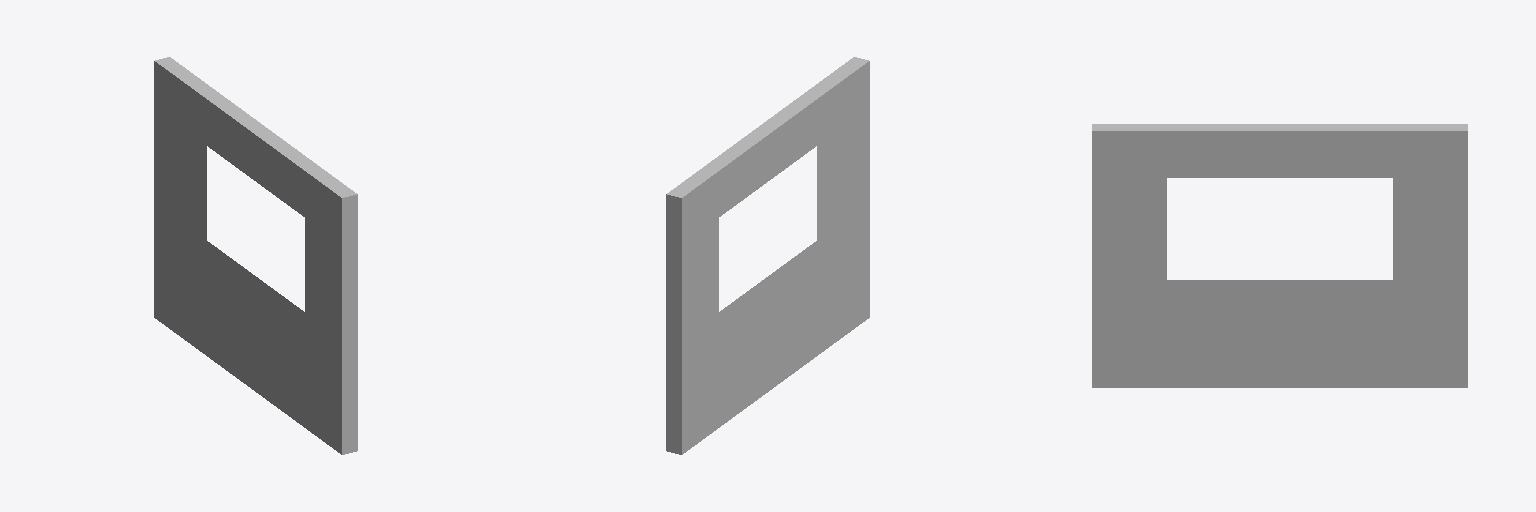
File: wall window.obj
3 renders of one model, left to right at view 1: azimuth 30°, elevation 25°; view 2: azimuth 150°, elevation 25°; view 3: azimuth 270°, elevation 25°, orthographic.
Visible parts, largest first — view 1: Cube.003; view 2: Cube.003; view 3: Cube.003.
Part boxes in pixels (bbox=[...]): Cube.003: bbox=[154, 57, 357, 454]; Cube.003: bbox=[666, 57, 869, 454]; Cube.003: bbox=[1092, 124, 1467, 387].
Bounding box in the file's own units: 0.2411 × 3.77 × 5.